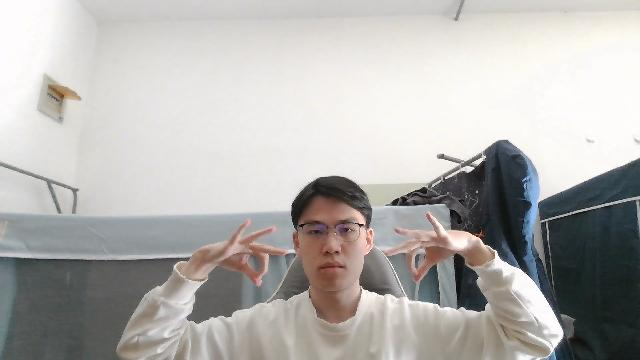ok: (382, 210, 479, 284), (192, 217, 291, 286)
